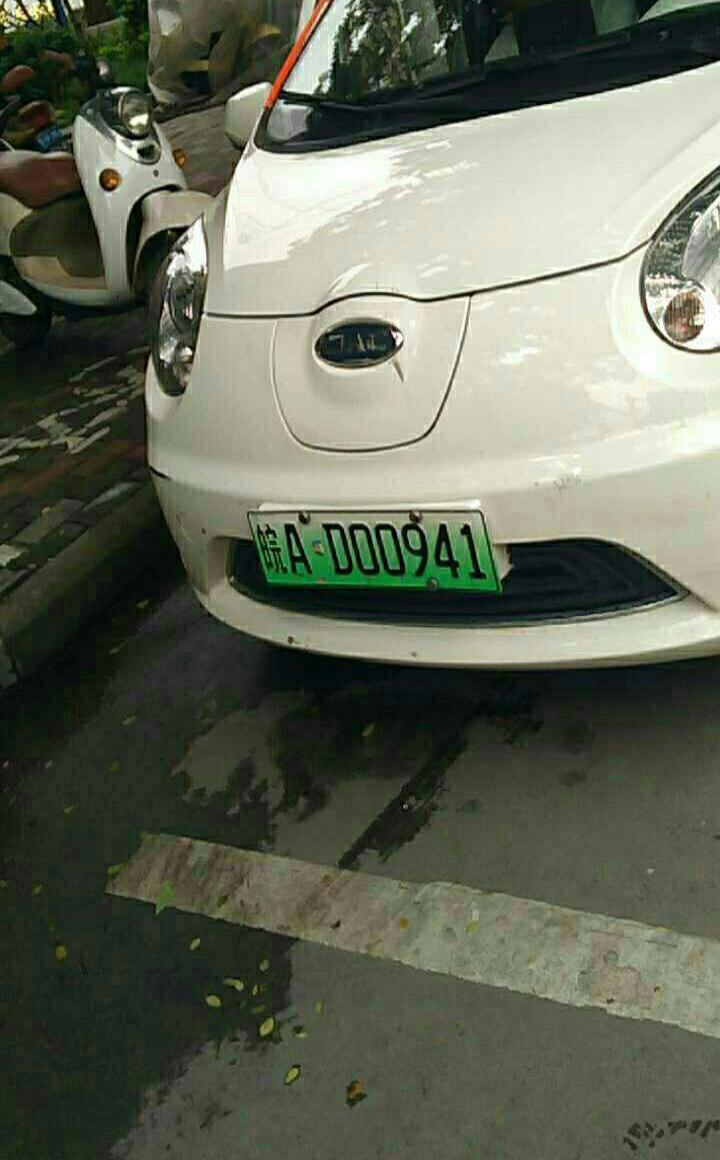car_green: (246, 506, 504, 605)
